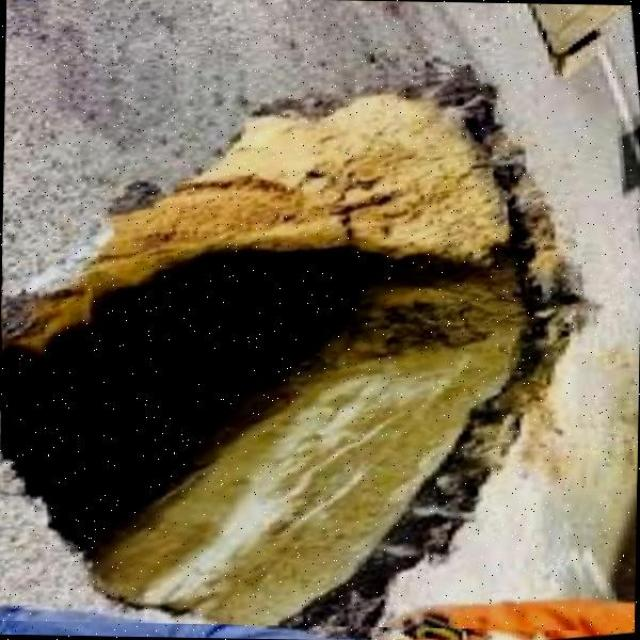pothole: (9, 59, 572, 625)
